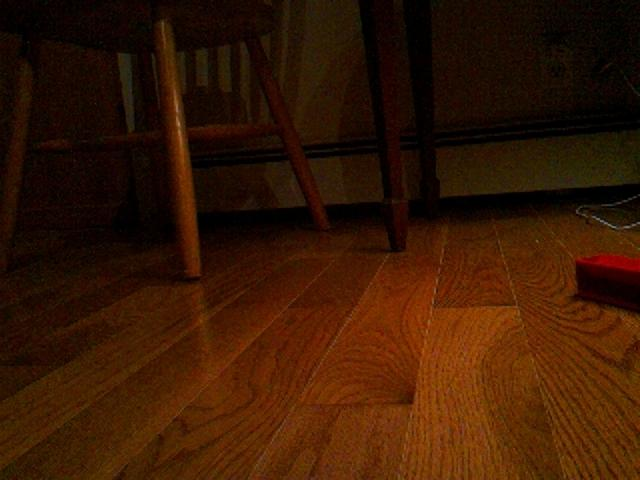red: (573, 251, 640, 316)
